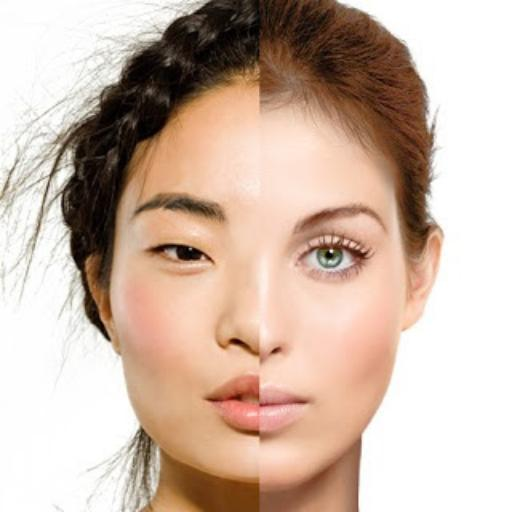left_eye: (295, 245, 371, 277)
left_lip_corner: (298, 393, 317, 411)
right_eye: (146, 242, 218, 271)
right_lip_corner: (202, 390, 221, 411)
